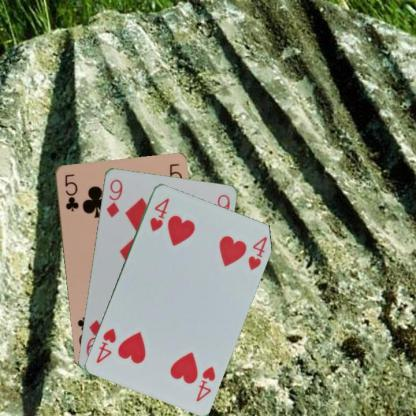4h: (193, 363, 217, 403), (147, 195, 170, 233)
5c: (62, 171, 80, 213)
9d: (102, 176, 124, 218)
